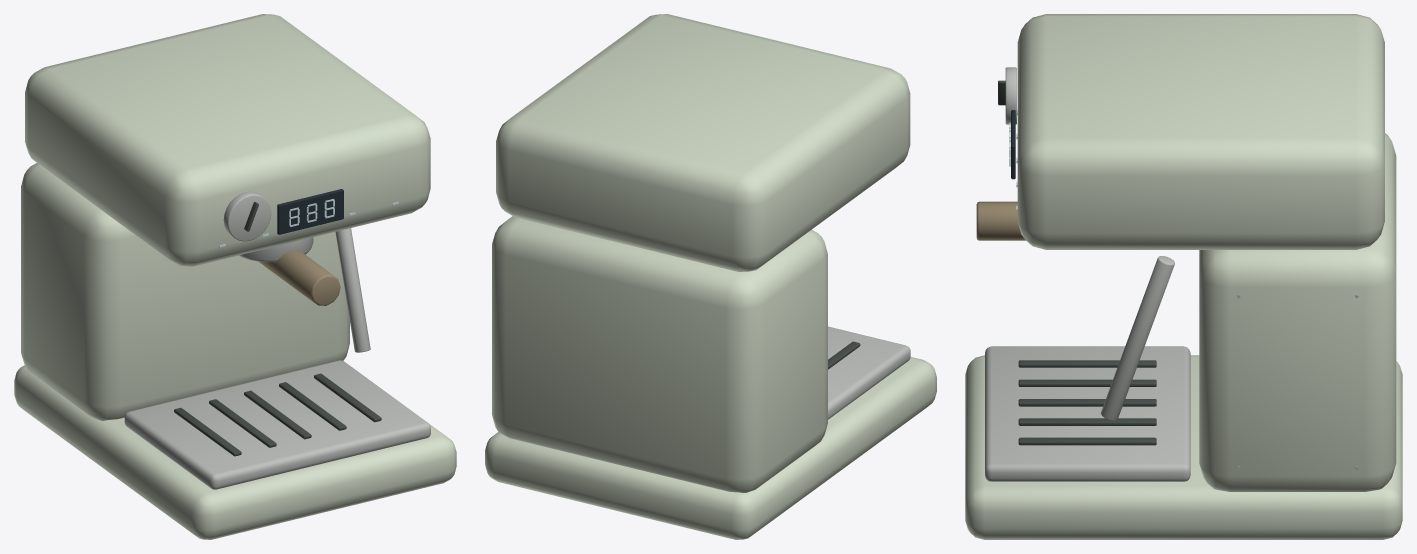
The model's file is espresso-machine.glb.
The picture shows the model from 3 angles, left to right: view 1: azimuth 30°, elevation 25°; view 2: azimuth 150°, elevation 25°; view 3: azimuth 270°, elevation 25°; orthographic projection. The views are drawn at different scales.
Parts seen in each view (by area): view 1: espresso-machine; view 2: espresso-machine; view 3: espresso-machine.
Boxes of the visible parts, x1,y1,x2,y2 form: espresso-machine: (14, 14, 456, 539); espresso-machine: (485, 14, 936, 539); espresso-machine: (965, 14, 1402, 539).
Size of the model in its own units: 0.3 by 0.38 by 0.38.
